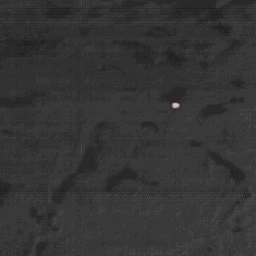Target: (171, 102, 180, 109)
